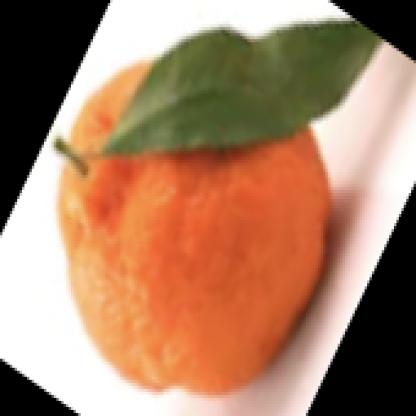fresh: (59, 58, 335, 391)
